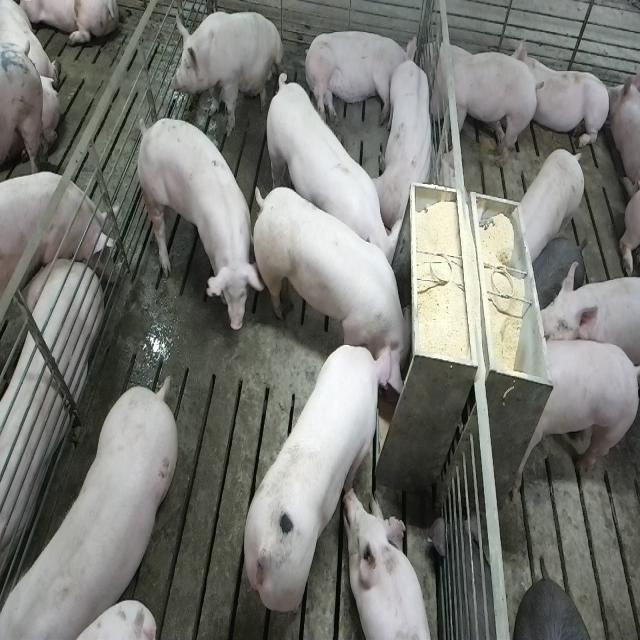Feeding: (242, 338, 400, 618), (257, 180, 421, 384)
Lateral_lying: (0, 254, 101, 608), (302, 28, 417, 127)
Sitting: (171, 8, 284, 135)
Standing: (5, 374, 182, 635), (262, 71, 398, 286), (134, 113, 262, 330), (516, 338, 638, 488), (420, 44, 541, 174), (0, 170, 119, 302), (534, 264, 637, 384), (515, 149, 587, 263)
Sternal_lying: (345, 489, 433, 640), (518, 36, 612, 154), (376, 53, 437, 229)
